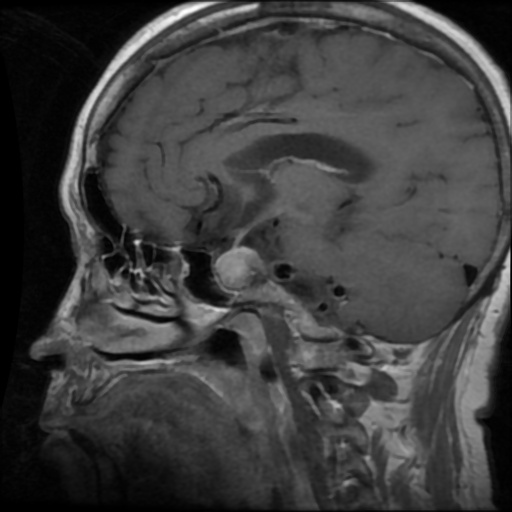pituitary: (215, 246, 267, 290)
